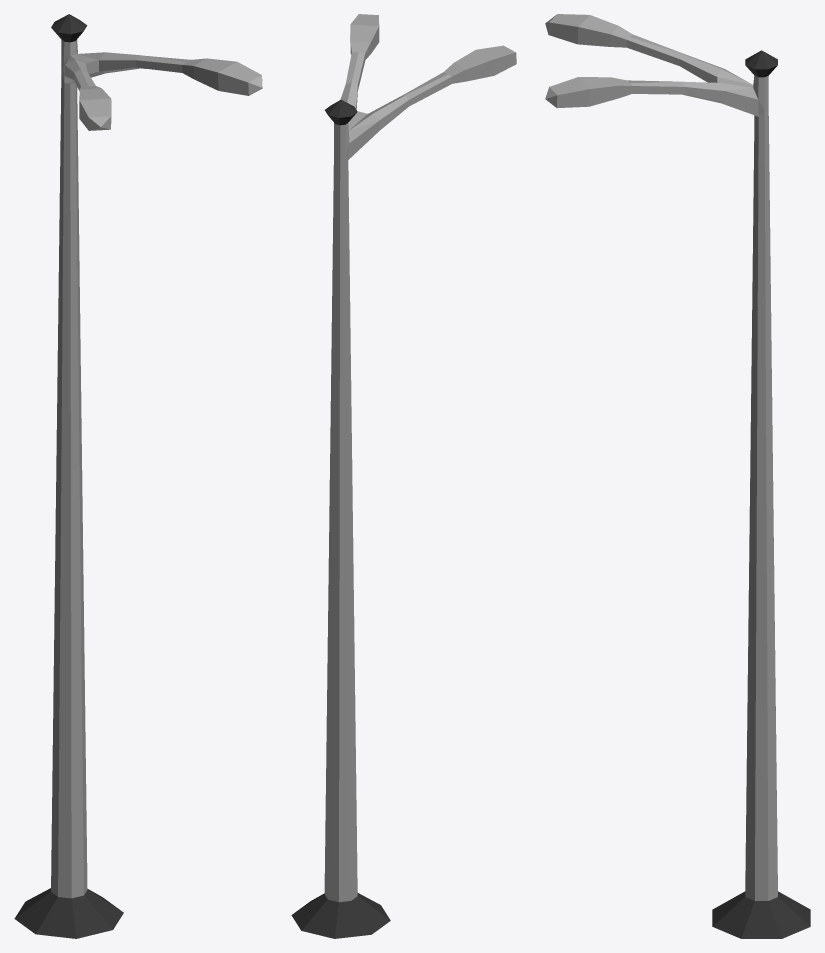
Rendered from Pole_light_free.fbx.
The picture shows the model from 3 angles, left to right: view 1: azimuth 30°, elevation 25°; view 2: azimuth 150°, elevation 25°; view 3: azimuth 270°, elevation 25°; orthographic projection. The views are drawn at different scales.
Parts seen in each view (by area): view 1: Pole_light_free; view 2: Pole_light_free; view 3: Pole_light_free.
Part boxes in pixels (box(x1,y1,x2,y2)): Pole_light_free: box(14, 14, 262, 938); Pole_light_free: box(291, 14, 516, 938); Pole_light_free: box(545, 14, 810, 938).
Bounding box in the file's own units: 218 × 1080 × 300.
